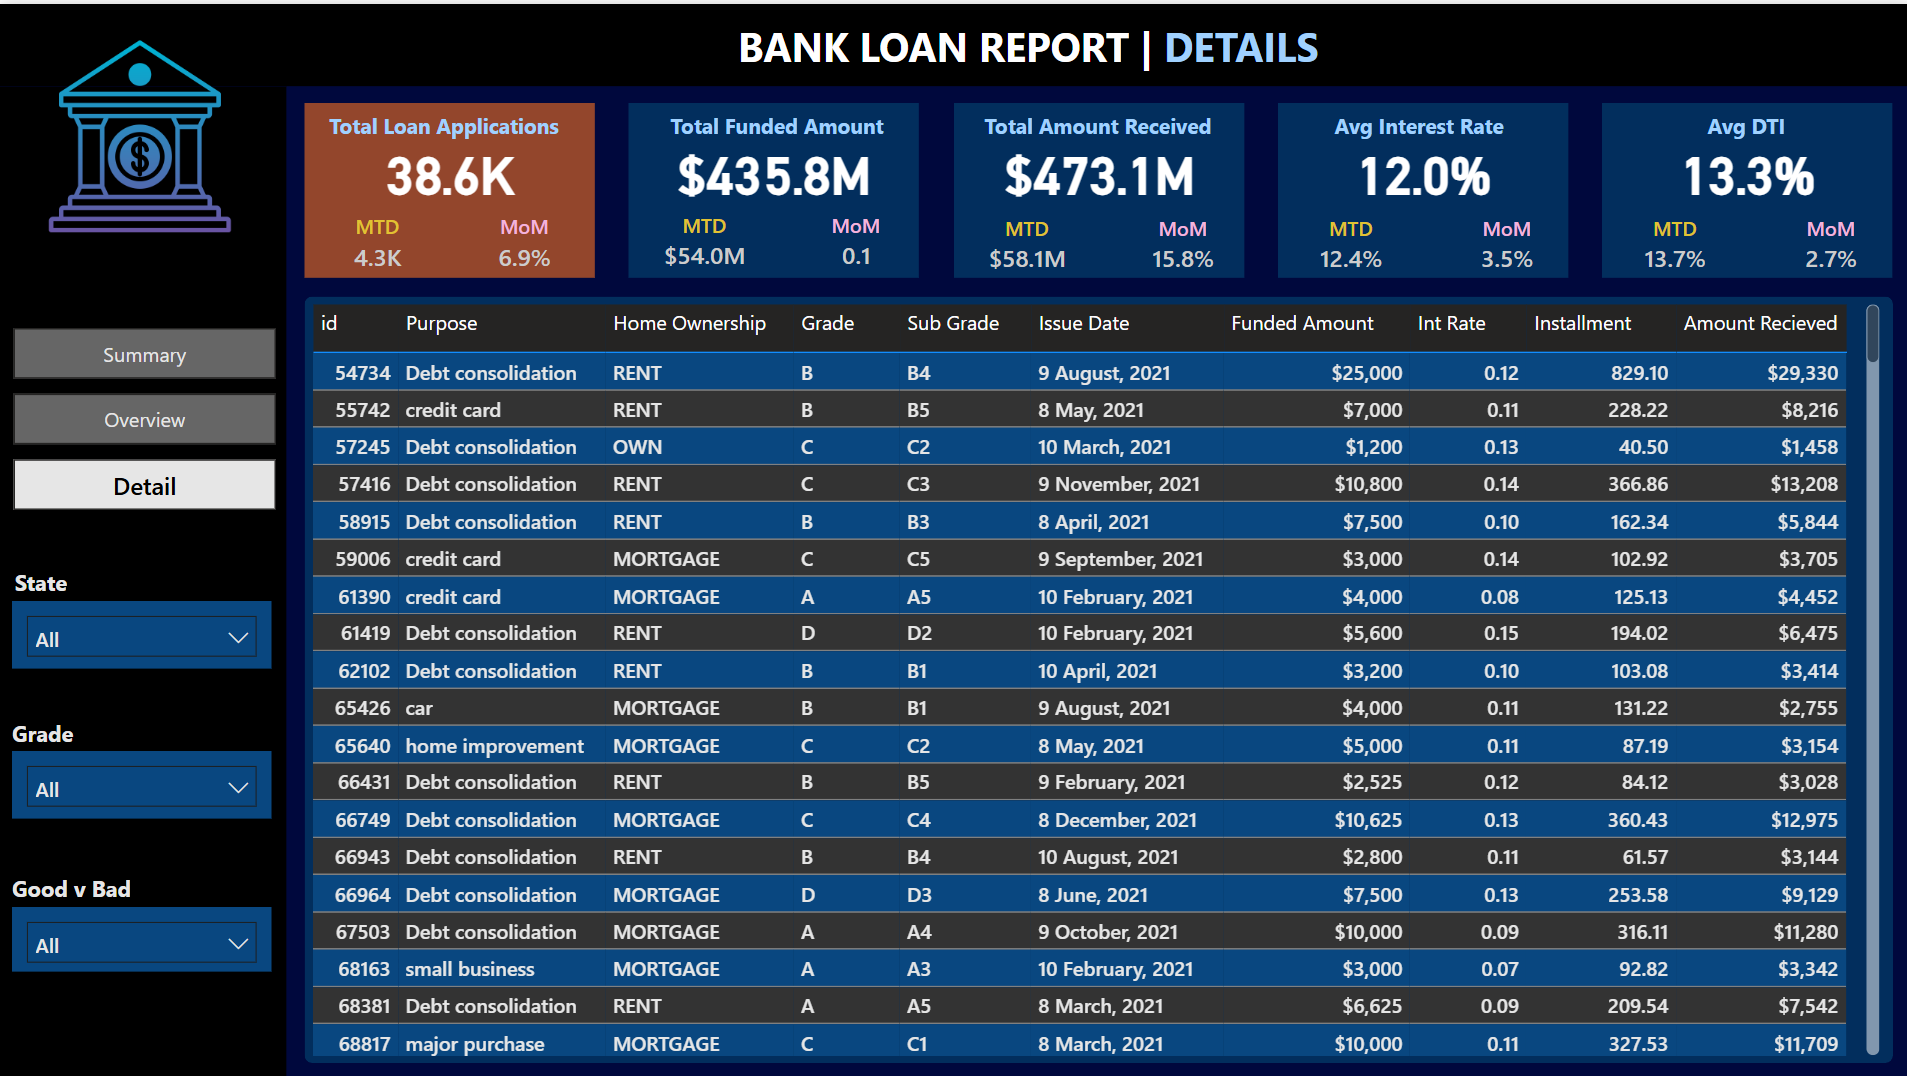

What the dashboard file says about the page in this screenshot:
{"tool":"powerbi","page":{"name":"Detail","canvas":[1280,720],"ordinal":2},"visuals":[{"type":"shape","box":[0,55.3,192.1,664.8],"z":0},{"type":"shape","box":[204.1,66.3,194.9,117.3],"z":0,"group":"g2"},{"type":"shape","box":[421.7,66.3,194.9,117.3],"z":0,"group":"g1"},{"type":"shape","box":[639.3,66.3,194.9,117.3],"z":0,"group":"g3"},{"type":"shape","box":[856.9,66.3,194.9,117.3],"z":0,"group":"g4"},{"type":"shape","box":[1074.5,66.3,194.9,117.3],"z":0,"group":"g5"},{"type":"card","fields":{"Values":["public bank_loan_data.Total Loan Applications"]},"box":[204.1,90.8,194.9,43.9],"z":1000,"group":"g2"},{"type":"card","fields":{"Values":["public bank_loan_data.Total Funded Amount"]},"box":[421.7,90.8,194.9,43.9],"z":1000,"group":"g1"},{"type":"card","fields":{"Values":["public bank_loan_data.Total Amount Recieved"]},"box":[639.3,90.8,194.9,43.9],"z":1000,"group":"g3"},{"type":"card","fields":{"Values":["public bank_loan_data.Avg Intrest Rate"]},"box":[856.9,90.8,194.9,43.9],"z":1000,"group":"g4"},{"type":"card","fields":{"Values":["public bank_loan_data.Avg DTI"]},"box":[1074.5,90.8,194.9,43.9],"z":1000,"group":"g5"},{"type":"shape","box":[204.2,196.1,1065.1,513.9],"z":1000},{"type":"shape","box":[0,0,1279.6,55.1],"z":2000},{"type":"textbox","box":[204.1,66.3,194.9,34.7],"z":2000,"group":"g2"},{"type":"textbox","box":[421.7,66.3,194.9,34.7],"z":2000,"group":"g1"},{"type":"textbox","box":[639.3,66.3,194.9,34.7],"z":2000,"group":"g3"},{"type":"textbox","box":[856.9,66.3,194.9,34.7],"z":2000,"group":"g4"},{"type":"textbox","box":[1074.5,66.3,194.9,34.7],"z":2000,"group":"g5"},{"type":"card","title":"MTD","fields":{"Values":["public bank_loan_data.MTD Loan Apllications"]},"box":[218.4,139.8,69.4,45.9],"z":3000,"group":"g2"},{"type":"card","title":"MTD","fields":{"Values":["public bank_loan_data.MTD Recieved Amount"]},"box":[653.6,140.8,69.4,45.9],"z":3000,"group":"g3"},{"type":"card","title":"MTD","fields":{"Values":["public bank_loan_data.MTD Avg INT Rate"]},"box":[871.2,140.8,69.4,45.9],"z":3000,"group":"g4"},{"type":"card","title":"MTD","fields":{"Values":["public bank_loan_data.MTD Avg DTI"]},"box":[1088.8,140.8,69.4,45.9],"z":3000,"group":"g5"},{"type":"textbox","box":[1,372.1,66.4,34.2],"z":3000},{"type":"group","id":"g1","title":"Group 1","box":[421.7,66.3,194.9,117.3],"z":4000},{"type":"card","title":"MoM","fields":{"Values":["public bank_loan_data.MoM Loan Applications"]},"box":[316.3,139.8,69.4,45.9],"z":4000,"group":"g2"},{"type":"card","title":"MoM","fields":{"Values":["public bank_loan_data.MoM Recived Amount"]},"box":[757.7,140.8,69.4,45.9],"z":4000,"group":"g3"},{"type":"card","title":"MoM","fields":{"Values":["public bank_loan_data.MoM AVG INT Rate"]},"box":[975.3,140.8,69.4,45.9],"z":4000,"group":"g4"},{"type":"card","title":"MoM","fields":{"Values":["public bank_loan_data.MoM AVG DTI"]},"box":[1192.9,140.8,69.4,45.9],"z":4000,"group":"g5"},{"type":"card","title":"MTD","fields":{"Values":["public bank_loan_data.MTD Funded Amount"]},"box":[437.8,138.8,69.4,45.9],"z":5000},{"type":"card","title":"MoM","fields":{"Values":["public bank_loan_data.MoM Funded Amount"]},"box":[538.8,138.8,69.4,45.9],"z":6000},{"type":"textbox","box":[489.8,5,520,46.3],"z":7000},{"type":"group","id":"g2","title":"Group 1","box":[204.1,66.3,194.9,119.4],"z":8000},{"type":"group","id":"g3","title":"Group 1","box":[639.3,66.3,194.9,120.4],"z":9000},{"type":"group","id":"g4","title":"Group 1","box":[856.9,66.3,194.9,120.4],"z":10000},{"type":"group","id":"g5","title":"Group 1","box":[1074.5,66.3,194.9,120.4],"z":11000},{"type":"slicer","fields":{"Values":["public bank_loan_data.address_state"]},"box":[8,400.3,174,45.3],"z":12000},{"type":"slicer","fields":{"Values":["public bank_loan_data.grade"]},"box":[8,500.9,174,45.3],"z":13000},{"type":"textbox","box":[3,473.7,66.4,34.2],"z":14000},{"type":"slicer","fields":{"Values":["public bank_loan_data.Good Vs Bad Loan"]},"box":[8,605.5,174,43.2],"z":15000},{"type":"textbox","box":[3,577.3,159.9,34.2],"z":16000},{"type":"tableEx","fields":{"Values":["public bank_loan_data.id","public bank_loan_data.purpose","public bank_loan_data.home_ownership","public bank_loan_data.grade","public bank_loan_data.sub_grade","public bank_loan_data.issue_date","public bank_loan_data.Total Funded Amount","Sum(public bank_loan_data.int_rate)","Sum(public bank_loan_data.installment)","public bank_loan_data.Total Amount Recieved"]},"box":[204.2,196.1,1061.1,513.9],"z":19000},{"type":"pageNavigator","box":[9.1,217.2,176,122.7],"z":19001},{"type":"image","box":[24.1,13.1,138.8,150.9],"z":19002}]}

Visuals, with their boxes in screenshot pixels (x1, y1, x2, y2), scaled from the page's 1280x720 canvas onto the 1907x1076 screenshot:
shape: [left=0, top=83, right=286, bottom=1075]
shape: [left=304, top=99, right=594, bottom=274]
shape: [left=628, top=99, right=919, bottom=274]
shape: [left=952, top=99, right=1243, bottom=274]
shape: [left=1277, top=99, right=1567, bottom=274]
shape: [left=1601, top=99, right=1891, bottom=274]
card - public bank_loan_data.Total Loan Applications: [left=304, top=136, right=594, bottom=201]
card - public bank_loan_data.Total Funded Amount: [left=628, top=136, right=919, bottom=201]
card - public bank_loan_data.Total Amount Recieved: [left=952, top=136, right=1243, bottom=201]
card - public bank_loan_data.Avg Intrest Rate: [left=1277, top=136, right=1567, bottom=201]
card - public bank_loan_data.Avg DTI: [left=1601, top=136, right=1891, bottom=201]
shape: [left=304, top=293, right=1891, bottom=1061]
shape: [left=0, top=0, right=1906, bottom=82]
textbox: [left=304, top=99, right=594, bottom=151]
textbox: [left=628, top=99, right=919, bottom=151]
textbox: [left=952, top=99, right=1243, bottom=151]
textbox: [left=1277, top=99, right=1567, bottom=151]
textbox: [left=1601, top=99, right=1891, bottom=151]
"MTD" card: [left=325, top=209, right=429, bottom=278]
"MTD" card: [left=974, top=210, right=1077, bottom=279]
"MTD" card: [left=1298, top=210, right=1401, bottom=279]
"MTD" card: [left=1622, top=210, right=1726, bottom=279]
textbox: [left=1, top=556, right=100, bottom=607]
"Group 1" group: [left=628, top=99, right=919, bottom=274]
"MoM" card: [left=471, top=209, right=575, bottom=278]
"MoM" card: [left=1129, top=210, right=1232, bottom=279]
"MoM" card: [left=1453, top=210, right=1556, bottom=279]
"MoM" card: [left=1777, top=210, right=1881, bottom=279]
"MTD" card: [left=652, top=207, right=756, bottom=276]
"MoM" card: [left=803, top=207, right=906, bottom=276]
textbox: [left=730, top=7, right=1504, bottom=77]
"Group 1" group: [left=304, top=99, right=594, bottom=278]
"Group 1" group: [left=952, top=99, right=1243, bottom=279]
"Group 1" group: [left=1277, top=99, right=1567, bottom=279]
"Group 1" group: [left=1601, top=99, right=1891, bottom=279]
slicer - public bank_loan_data.address_state: [left=12, top=598, right=271, bottom=666]
slicer - public bank_loan_data.grade: [left=12, top=749, right=271, bottom=816]
textbox: [left=4, top=708, right=103, bottom=759]
slicer - public bank_loan_data.Good Vs Bad Loan: [left=12, top=905, right=271, bottom=969]
textbox: [left=4, top=863, right=243, bottom=914]
tableEx - public bank_loan_data.id x public bank_loan_data.purpose: [left=304, top=293, right=1885, bottom=1061]
pageNavigator: [left=14, top=325, right=276, bottom=508]
image: [left=36, top=20, right=243, bottom=245]
